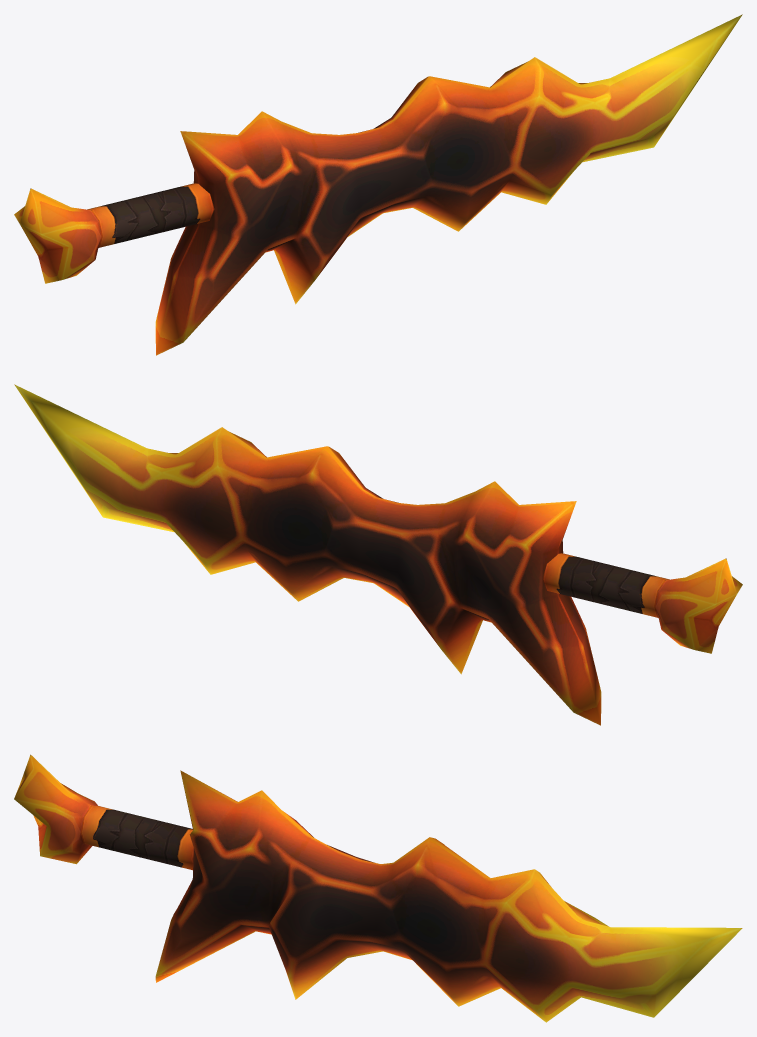
File: item_weaswomgm2501.glb
The picture shows the model from 3 angles, top to bottom: view 1: azimuth 30°, elevation 25°; view 2: azimuth 150°, elevation 25°; view 3: azimuth 330°, elevation 25°; orthographic projection.
Visible parts, largest first — view 1: FlyffMesh; view 2: FlyffMesh; view 3: FlyffMesh.
Part boxes in pixels (x1,y1,x2,y2): FlyffMesh: [14, 14, 742, 355]; FlyffMesh: [14, 384, 742, 725]; FlyffMesh: [14, 754, 742, 1022].
Size of the model in its own units: 1.2 by 0.347 by 0.1155.
1 material, 1 textured.
